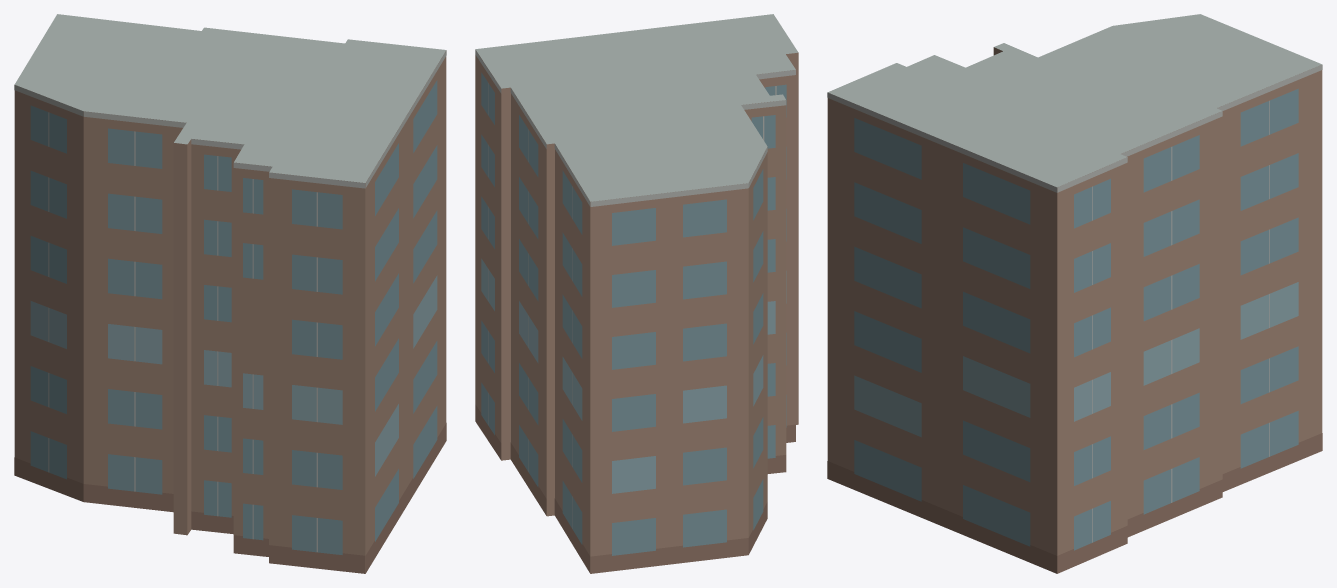
The model's file is survey-upis-32641136.glb.
The picture shows the model from 3 angles, left to right: view 1: azimuth 30°, elevation 25°; view 2: azimuth 150°, elevation 25°; view 3: azimuth 270°, elevation 25°; orthographic projection. The views are drawn at different scales.
Visible parts, largest first — view 1: survey-upis-32641136.tmp; view 2: survey-upis-32641136.tmp; view 3: survey-upis-32641136.tmp.
Part boxes in pixels (left/top/right/bottom): survey-upis-32641136.tmp: left=14, top=14, right=446, bottom=573; survey-upis-32641136.tmp: left=475, top=14, right=798, bottom=573; survey-upis-32641136.tmp: left=827, top=14, right=1322, bottom=573.
Bounding box in the file's own units: 16.66 × 17.3 × 20.09.
